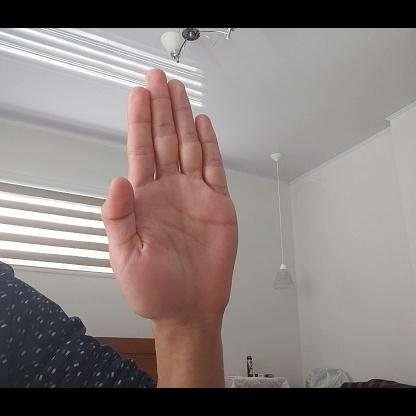B: (102, 62, 239, 324)
